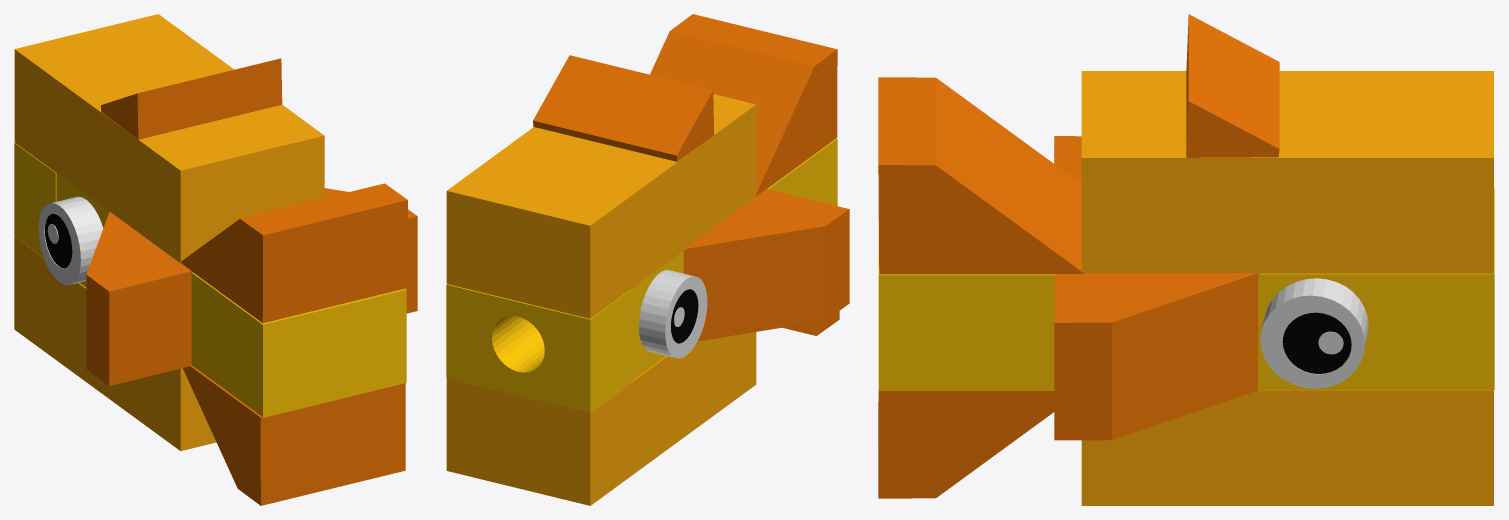
The model's file is Fish.fbx.
3 renders of one model, left to right at view 1: azimuth 30°, elevation 25°; view 2: azimuth 150°, elevation 25°; view 3: azimuth 270°, elevation 25°, orthographic. The views are drawn at different scales.
Parts seen in each view (by area): view 1: fishtop, backtopfin, fishtailbase, backbottomfin, leftfin, fishbottom, topfin, FishEye_L, fishmouth, rightfin, Pupil, side_L; view 2: fishtop, fishbottom, leftfin, fishmouth, backtopfin, topfin, FishEye_L, fishtailbase, side_L, Pupil, backbottomfin; view 3: fishtop, fishbottom, backtopfin, rightfin, fishtailbase, backbottomfin, fishmouth, topfin, rightfishside, FishEye_R, Pupil.001, leftfin.
Boxes of the visible parts, x1,y1,x2,y2 form: fishtop: [14, 14, 324, 263]; backtopfin: [181, 183, 407, 323]; fishtailbase: [191, 272, 406, 417]; backbottomfin: [183, 365, 405, 505]; leftfin: [86, 211, 192, 385]; fishbottom: [14, 236, 216, 450]; topfin: [101, 58, 282, 139]; FishEye_L: [38, 196, 103, 285]; fishmouth: [14, 142, 56, 257]; rightfin: [324, 188, 417, 313]; Pupil: [45, 214, 72, 268]; side_L: [56, 173, 109, 287]; fishtop: [446, 94, 756, 318]; fishbottom: [446, 332, 756, 505]; leftfin: [683, 189, 849, 341]; fishmouth: [446, 284, 631, 412]; backtopfin: [650, 14, 837, 195]; topfin: [533, 55, 714, 161]; FishEye_L: [639, 270, 707, 358]; fishtailbase: [767, 138, 837, 205]; side_L: [631, 251, 683, 380]; Pupil: [671, 289, 698, 343]; backbottomfin: [782, 311, 839, 335]; fishtop: [1081, 71, 1493, 273]; fishbottom: [1081, 390, 1493, 505]; backtopfin: [878, 77, 1084, 274]; rightfin: [1054, 273, 1259, 440]; fishtailbase: [878, 220, 1054, 390]; backbottomfin: [878, 391, 1054, 498]; fishmouth: [1391, 187, 1494, 389]; topfin: [1186, 14, 1279, 157]; rightfishside: [1258, 273, 1391, 389]; FishEye_R: [1260, 278, 1368, 388]; Pupil.001: [1282, 312, 1351, 373]; leftfin: [1054, 136, 1081, 183].
Bounding box in the file's own units: 288 × 291 × 402.
